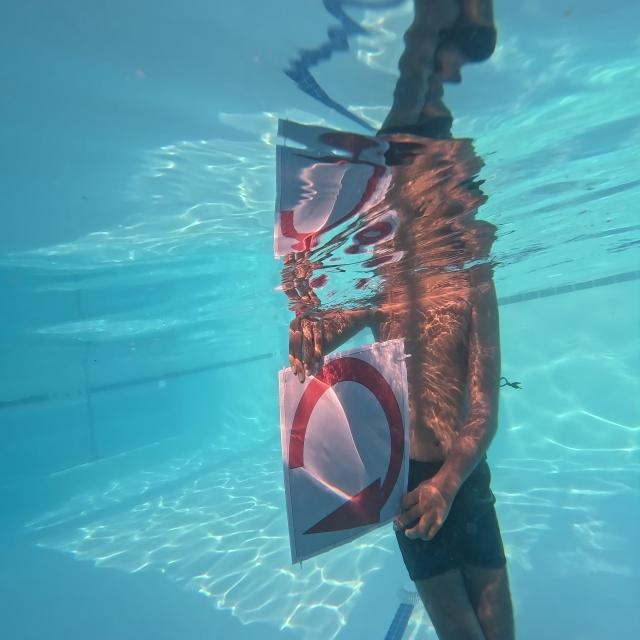red_side: (268, 357, 412, 548)
